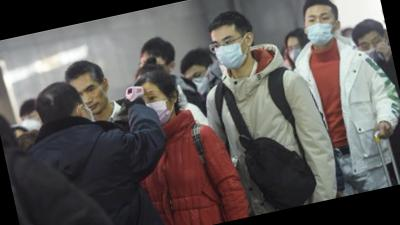with_mask: (210, 32, 251, 75), (138, 84, 175, 131), (302, 10, 340, 50), (356, 35, 389, 69), (184, 68, 213, 99), (284, 39, 308, 66), (19, 112, 43, 136)
without_mask: (76, 81, 109, 120)
